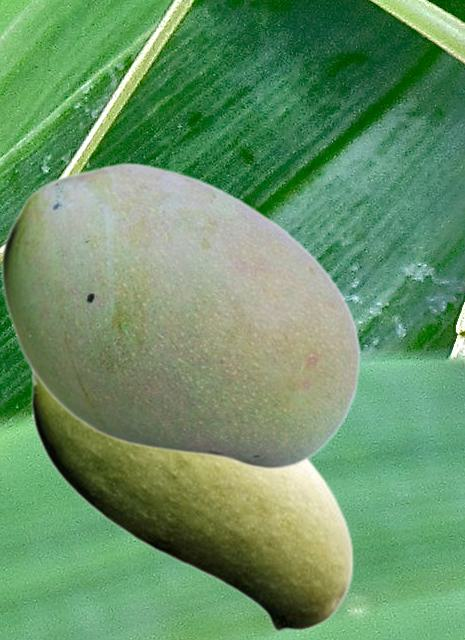green_mango: (0, 161, 360, 469), (30, 373, 353, 632)
